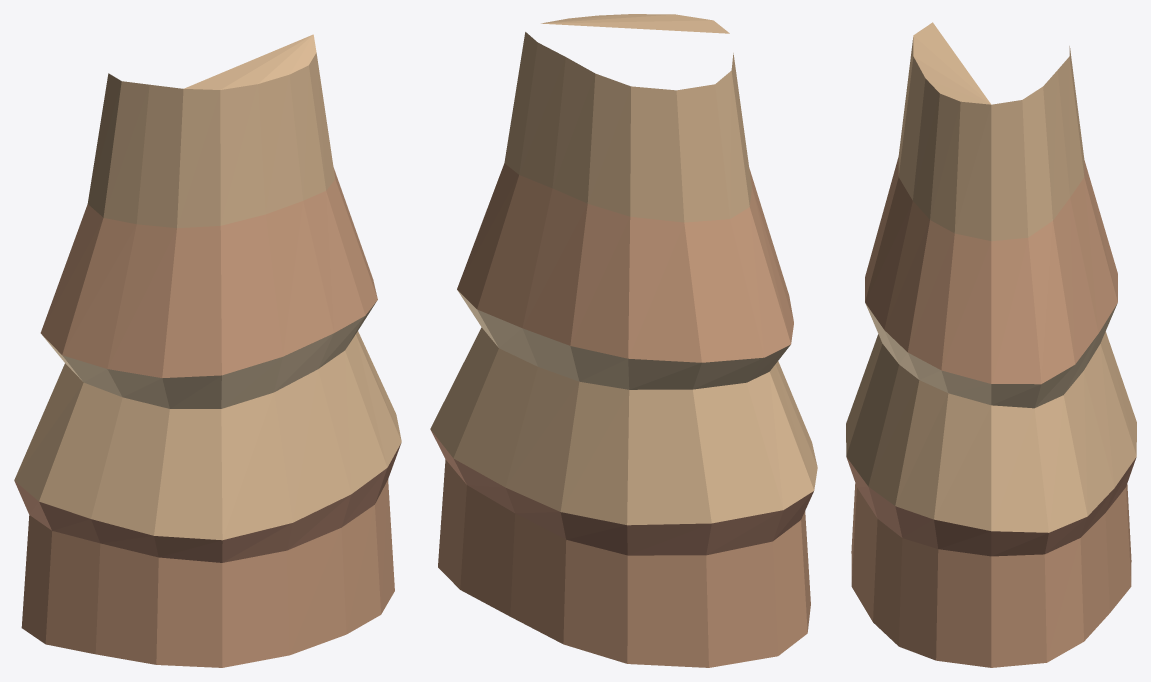
The picture shows the model from 3 angles, left to right: view 1: azimuth 30°, elevation 25°; view 2: azimuth 150°, elevation 25°; view 3: azimuth 270°, elevation 25°; orthographic projection. The views are drawn at different scales.
Size of the model in its own units: 23.76 by 35.39 by 17.29.
